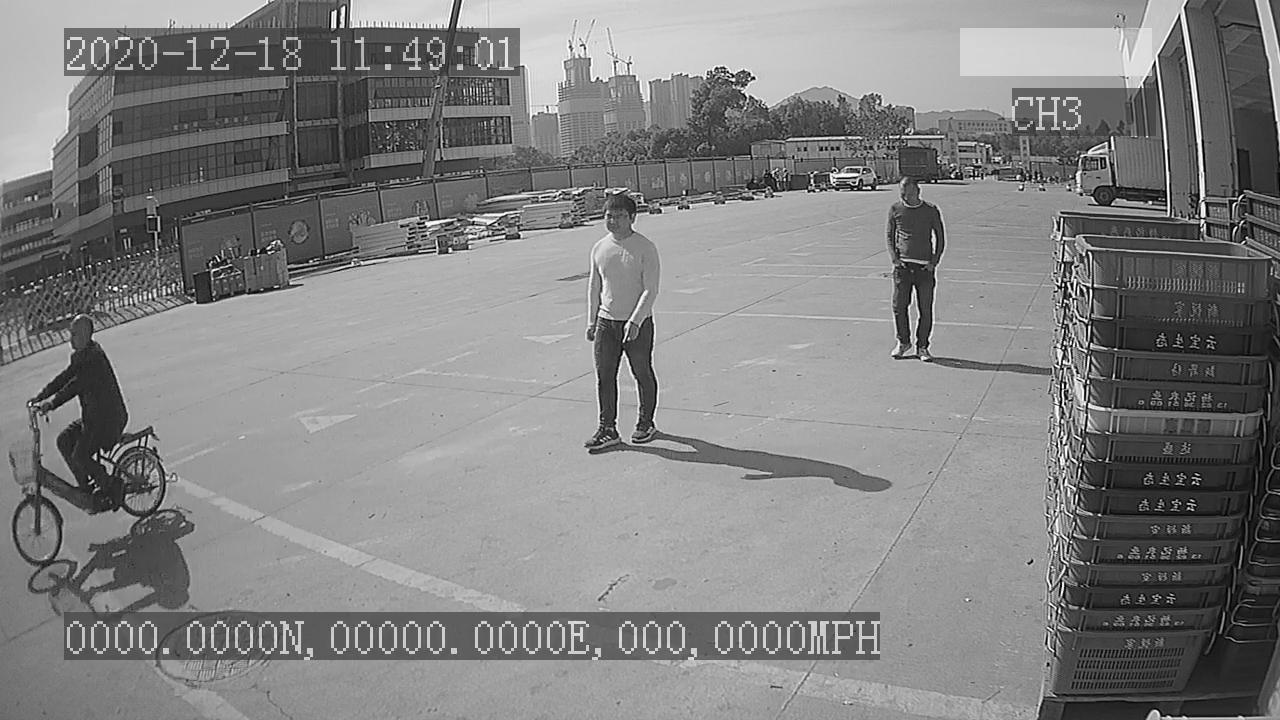person: (579, 192, 663, 458), (883, 174, 949, 365)
